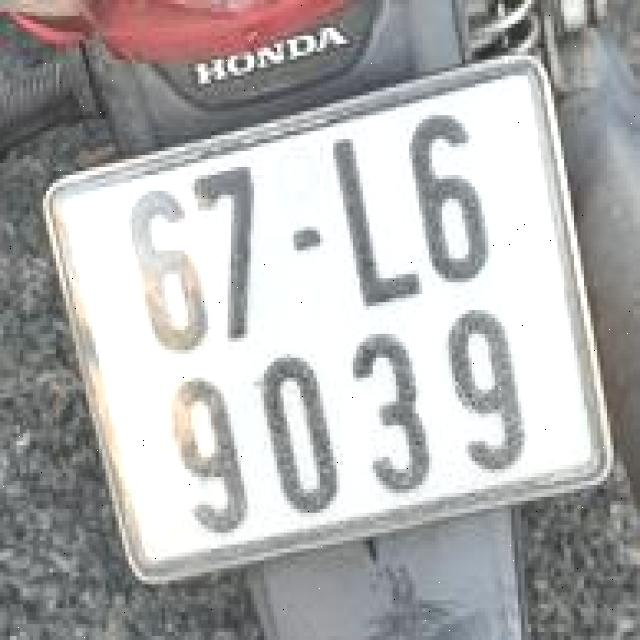0: (251, 334, 350, 524)
3: (341, 316, 441, 504)
6: (396, 92, 501, 295), (116, 173, 215, 361)
7: (188, 150, 279, 356)
9: (153, 360, 263, 547), (432, 295, 536, 482)
L: (318, 112, 431, 323)
